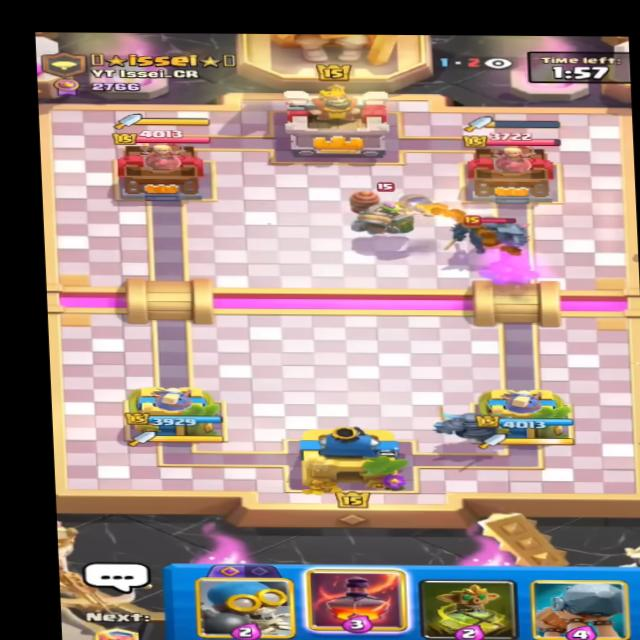goblin-machine: (330, 179, 440, 247)
pekka: (441, 206, 539, 253)
